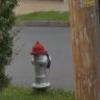Hydrant: (26, 35, 55, 92)
